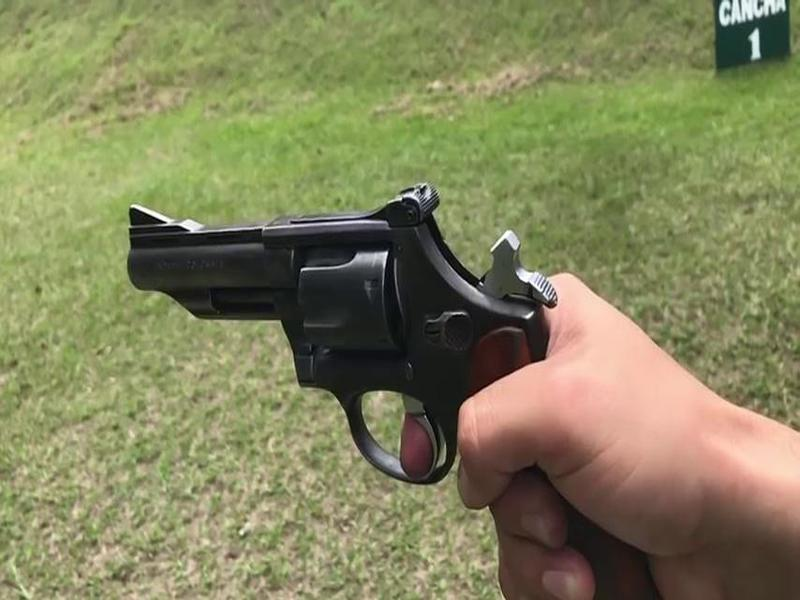Revolver: (125, 200, 588, 507)
